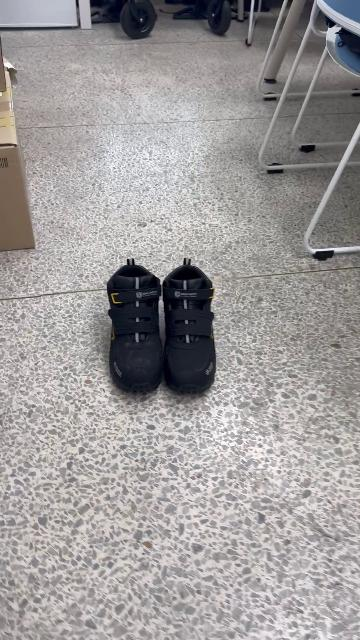shoe_worn: (162, 258, 220, 394), (108, 259, 162, 394)
